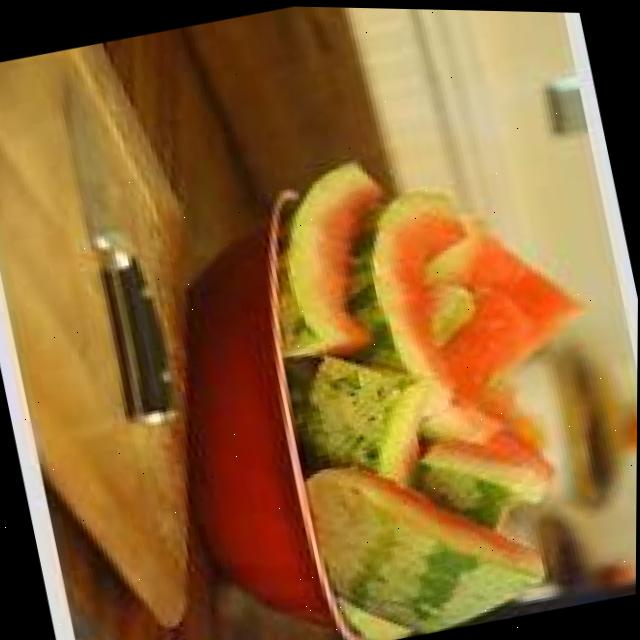Wet: (250, 109, 639, 640)
